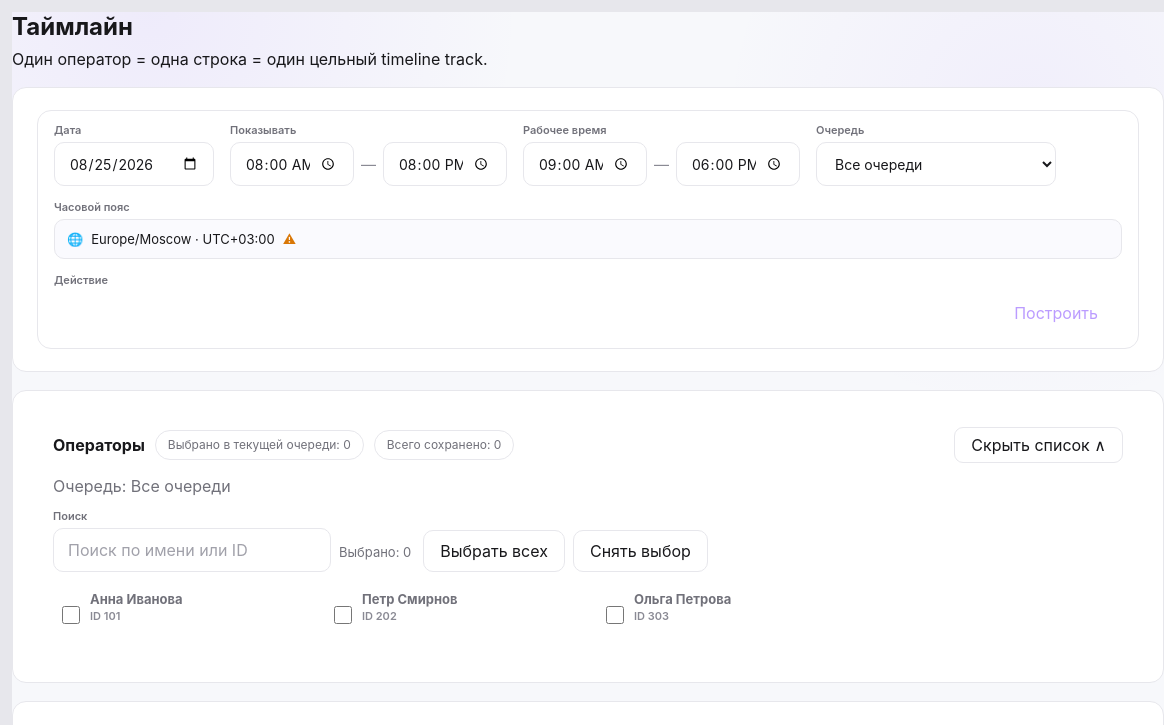
TimelinePage component behavior › filters operator list by selected queue
This screenshot has width=1164, height=725.
Check: the text "Анна Иванова" is shown, box [90, 591, 182, 607]
Select "Линия B (1)" in the dropdown with test id "timeline-queue-select": (936, 164) [816, 142, 1056, 186]
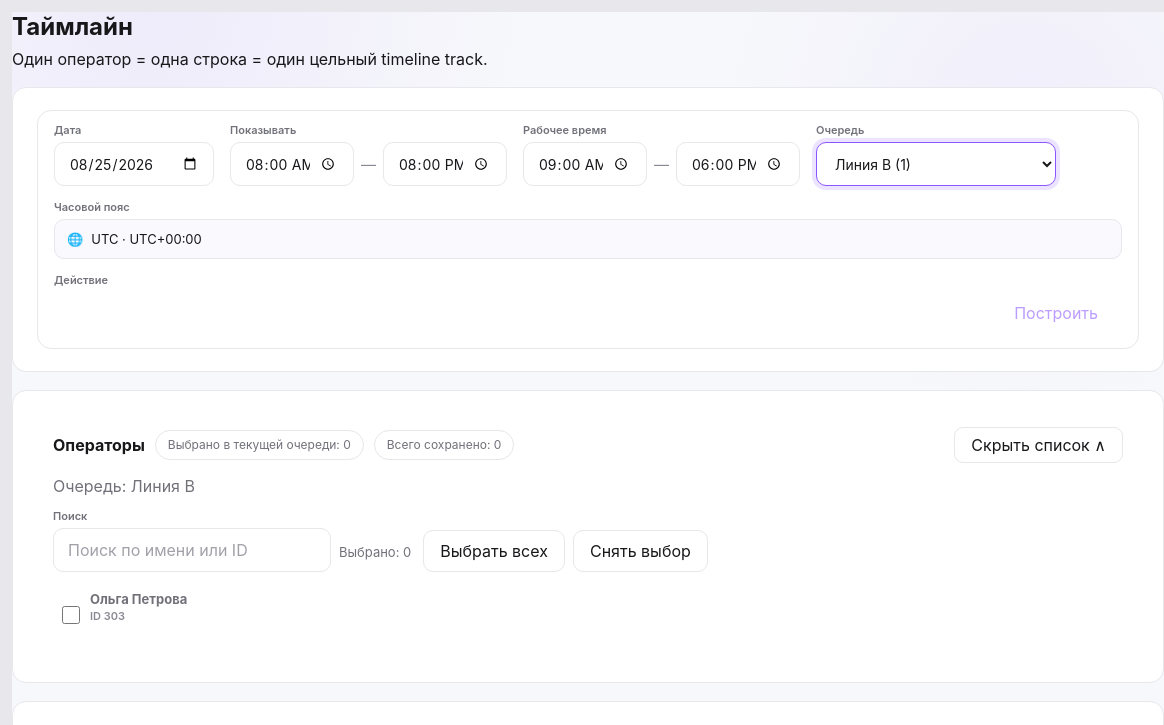
Check: the text "Ольга Петрова" is shown, box [90, 591, 187, 607]
Check: the text "Анна Иванова" is gone
Check: the text "Петр Смирнов" is gone
